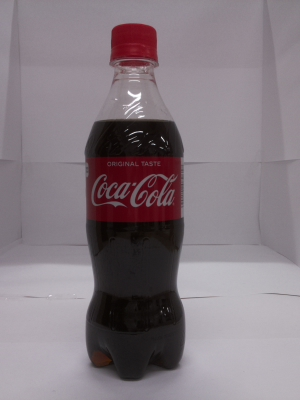cola: (68, 15, 198, 389)
